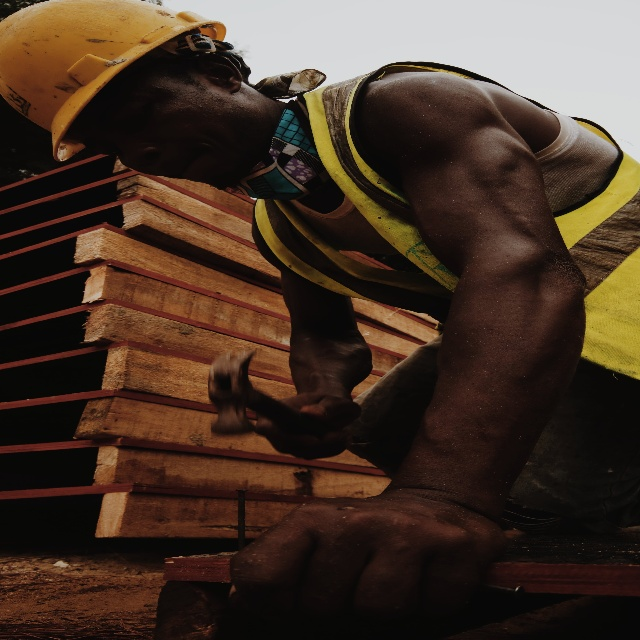Sin_guantes: (230, 489, 508, 640), (251, 387, 362, 461)
